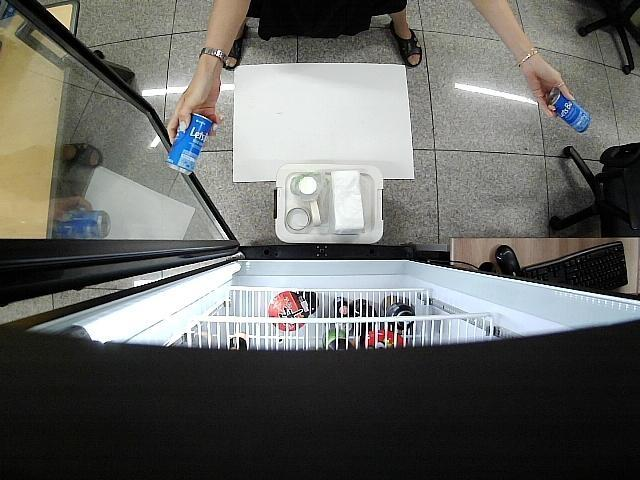15_letsbe: (166, 110, 213, 176), (546, 88, 590, 133)
